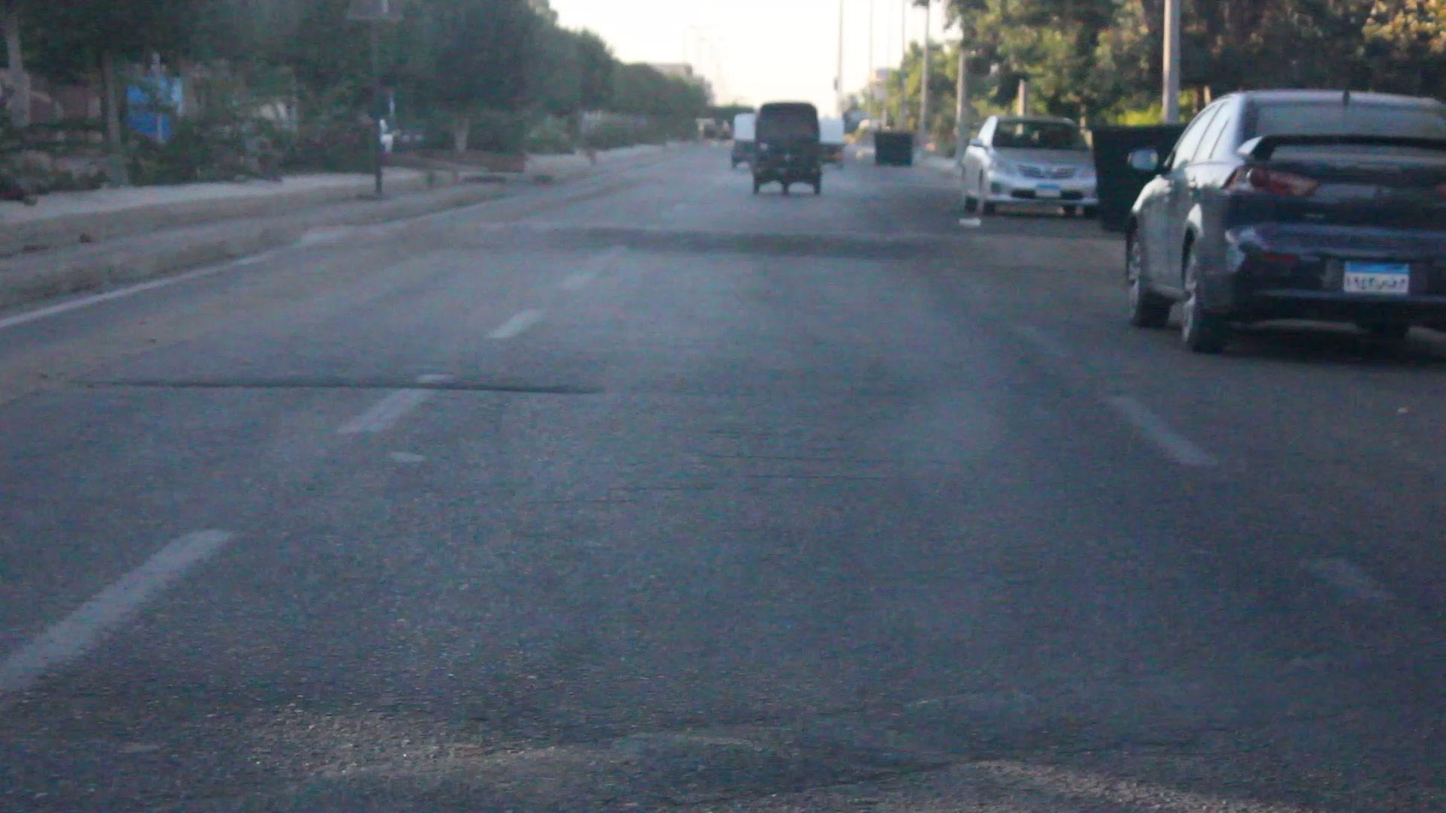Bump: (356, 218, 1107, 269)
